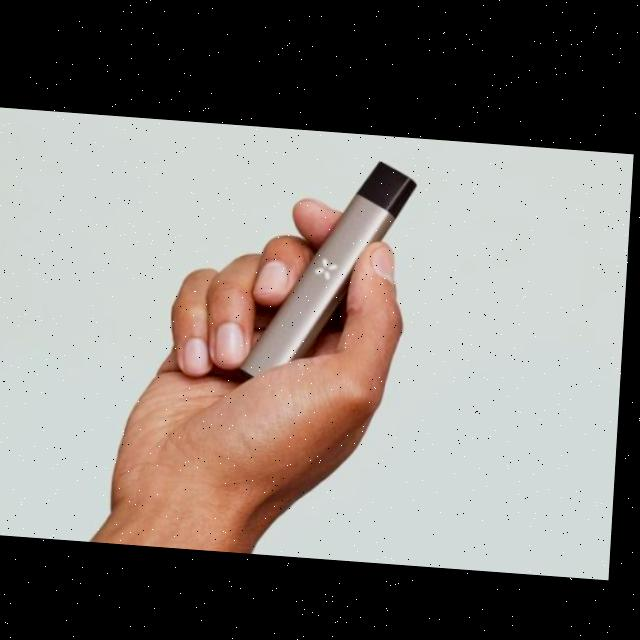vape: (233, 145, 419, 390)
